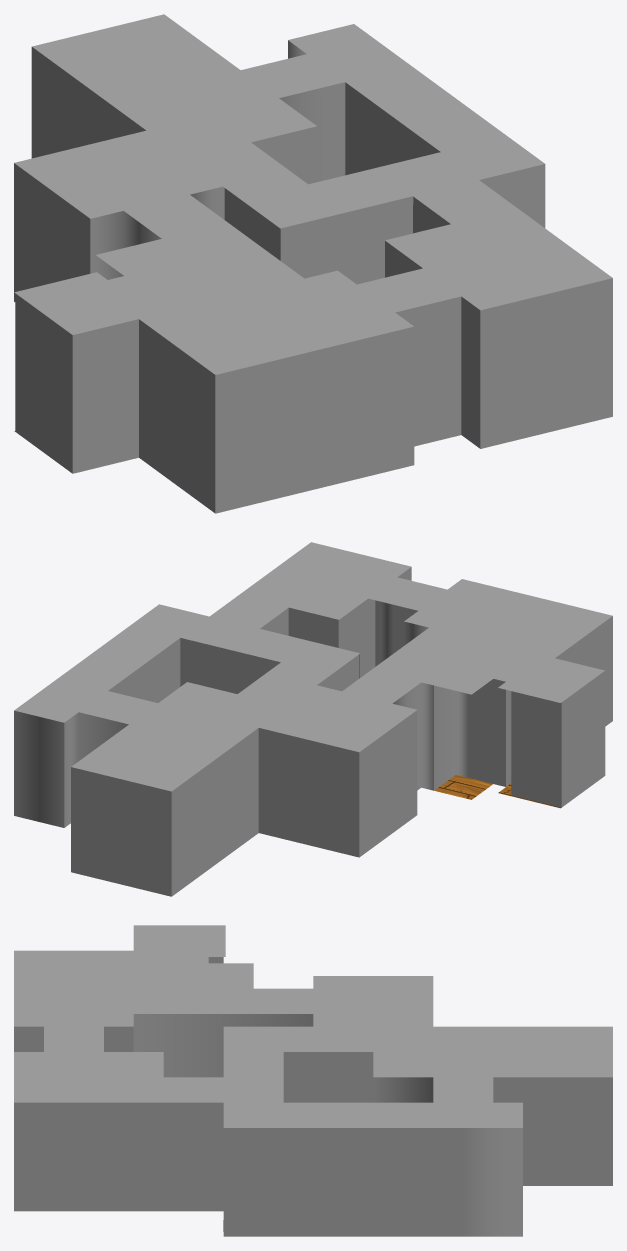
Rendered from LV2_Complete_12-12.fbx.
3 renders of one model, top to bottom at view 1: azimuth 30°, elevation 25°; view 2: azimuth 150°, elevation 25°; view 3: azimuth 270°, elevation 25°, orthographic. The views are drawn at different scales.
Parts seen in each view (by area): view 1: Walls, Ceiling; view 2: Walls, Ceiling, Floor; view 3: Walls, Ceiling.
Part boxes in pixels (<box>): Walls: <box>14,40,612,513</box>; Ceiling: <box>14,14,612,374</box>; Walls: <box>14,567,612,896</box>; Ceiling: <box>14,542,612,791</box>; Floor: <box>434,775,561,808</box>; Walls: <box>14,957,612,1236</box>; Ceiling: <box>14,925,612,1127</box>.
Bounding box in the file's own units: 32 × 8.01 × 40.
